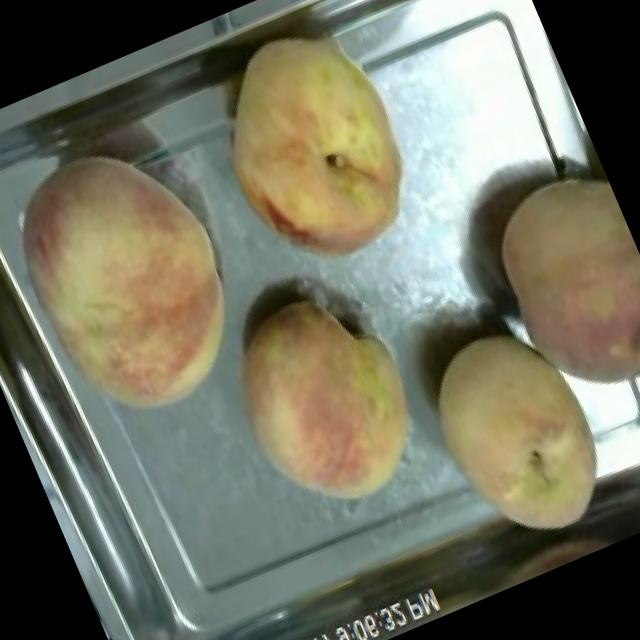Fruit: (0, 110, 276, 455), (176, 0, 450, 298), (202, 262, 452, 538), (396, 296, 640, 577), (451, 149, 640, 429)
